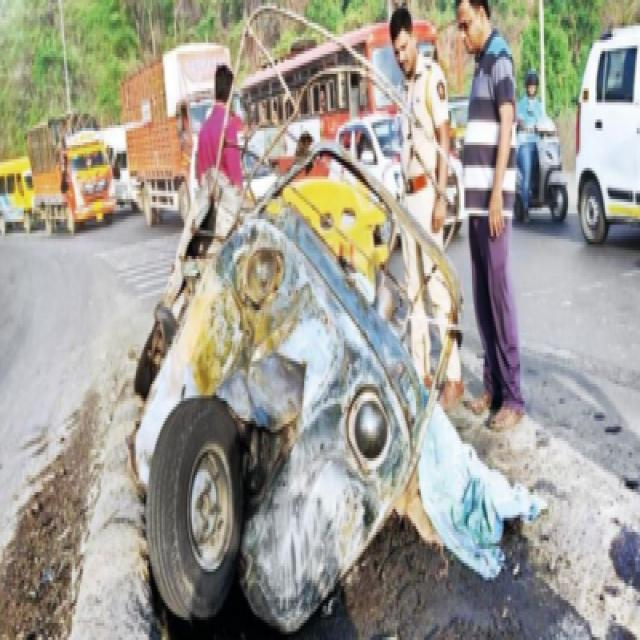accident: (131, 0, 464, 630)
